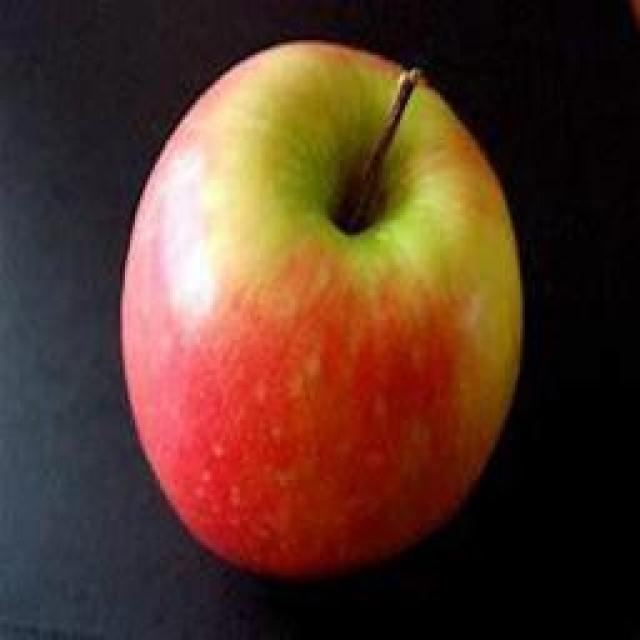Apple: (121, 42, 522, 576)
